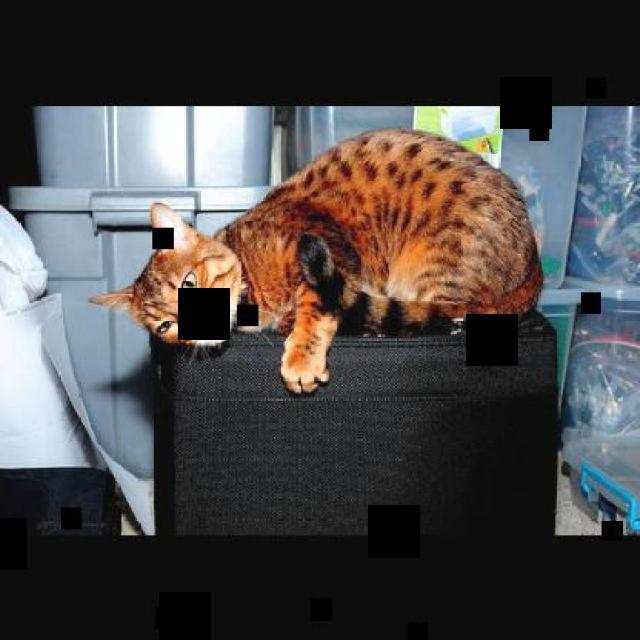unauthorized: (88, 127, 544, 396)
